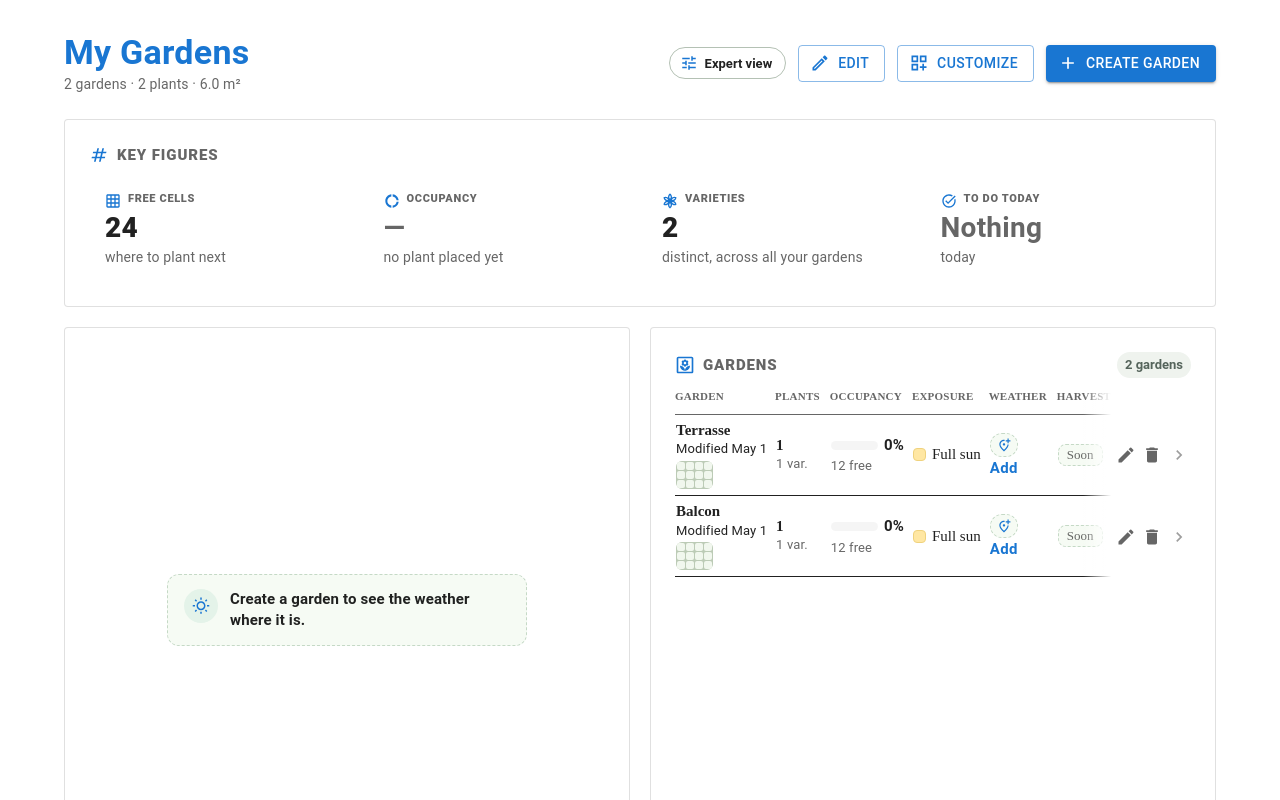
Test: the Counters widget options (artboard A8) › offers the two entries the frozen design draws
Click the button "Edit" at (842, 63), box [798,45,885,82]
(page scrolled)
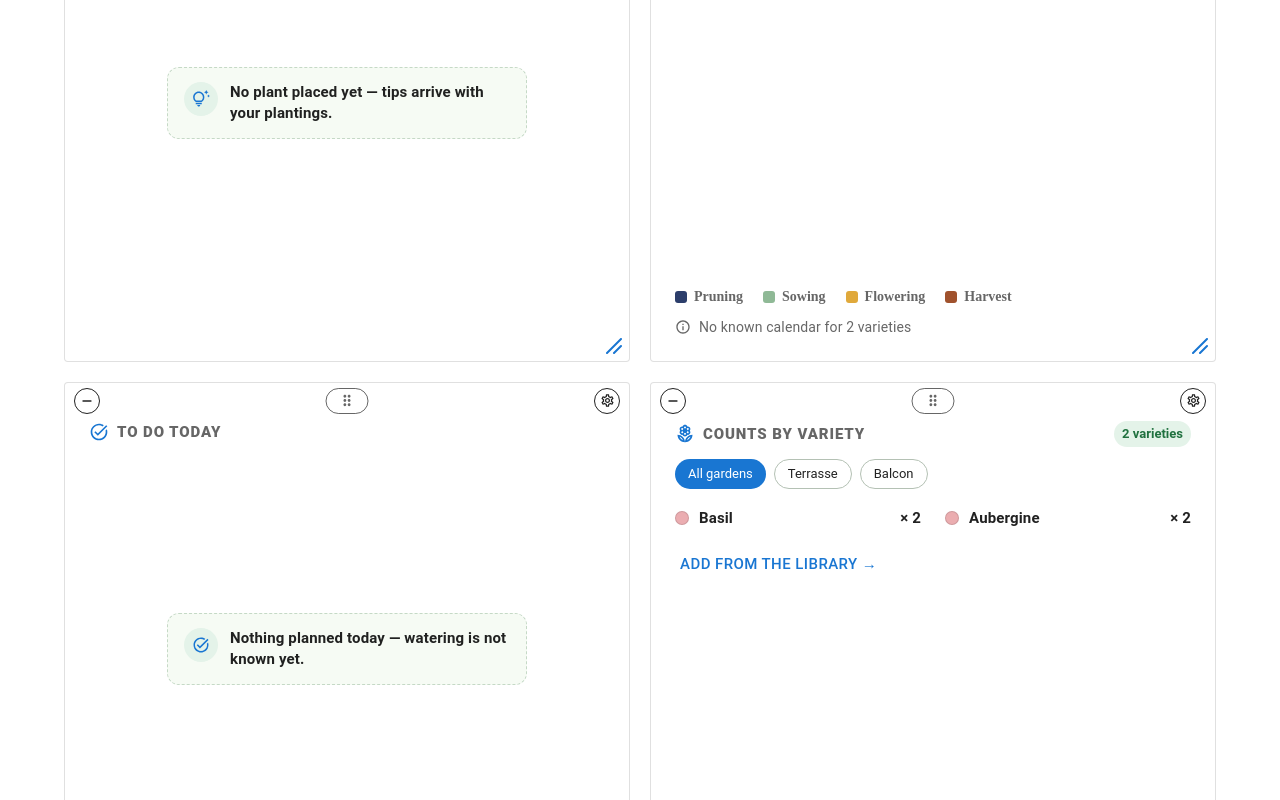
Click the button named "Counts by variety options" at (1193, 401), box [1180,388,1206,414]
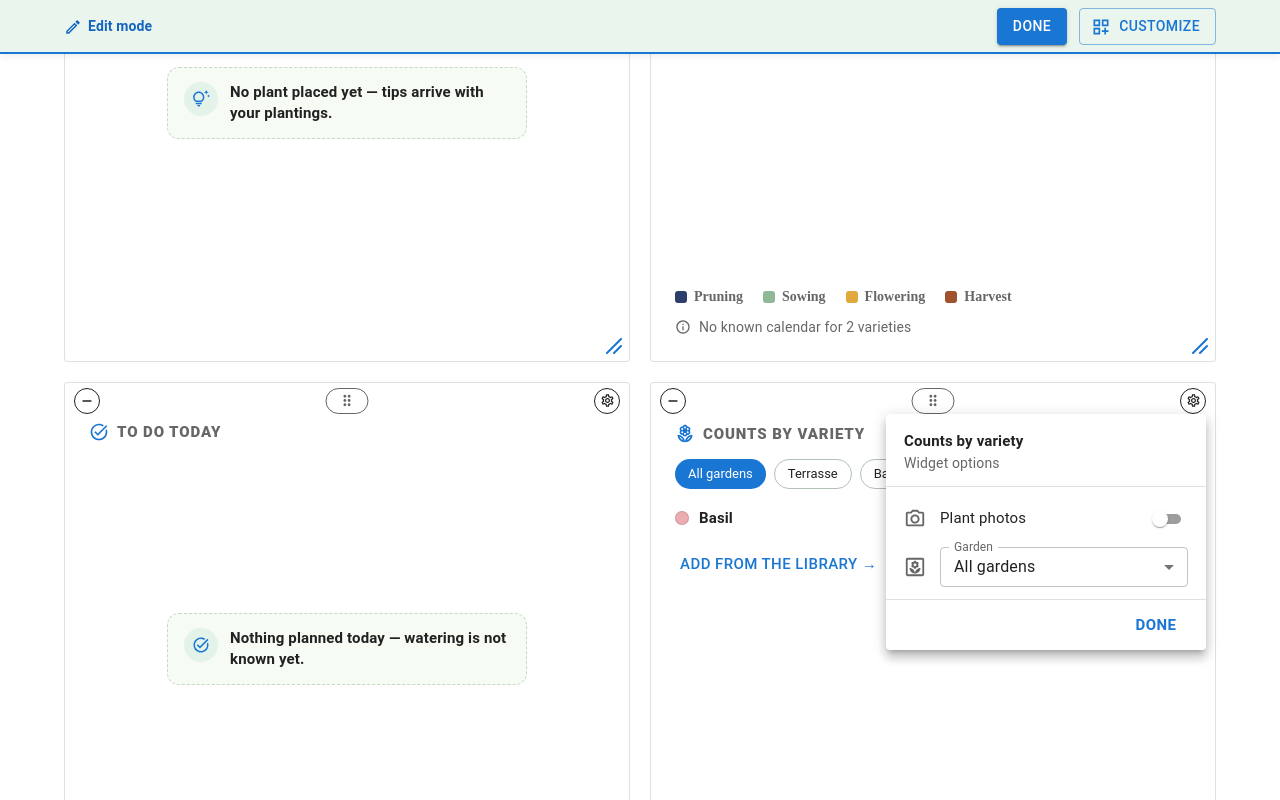
Now the text "Widget options" is shown, box [904,454,1000,470]
Now the switch labelled "Plant photos" is shown, box [940,506,1188,530]
Now the dropdown labelled "garden" is shown, box [954,557,1035,576]
